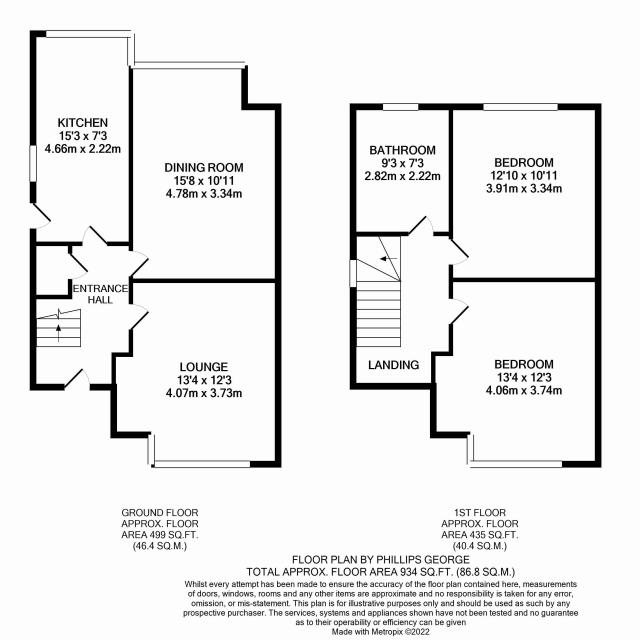DOOR: (64, 366, 91, 391), (29, 202, 53, 230), (448, 238, 471, 267), (128, 250, 151, 278), (67, 252, 90, 280), (128, 303, 151, 331), (448, 298, 471, 326), (408, 214, 435, 237), (81, 224, 108, 246)
ROOM: (128, 61, 283, 283), (430, 277, 602, 469), (110, 278, 282, 468), (448, 103, 602, 282), (29, 30, 136, 246), (349, 103, 454, 237)
WINDOW: (126, 61, 249, 70), (465, 459, 564, 469), (147, 460, 251, 469), (45, 30, 135, 38), (482, 103, 559, 111), (466, 430, 476, 469), (147, 431, 156, 469), (382, 103, 419, 112), (127, 29, 135, 70), (29, 145, 37, 183), (348, 259, 358, 288)
